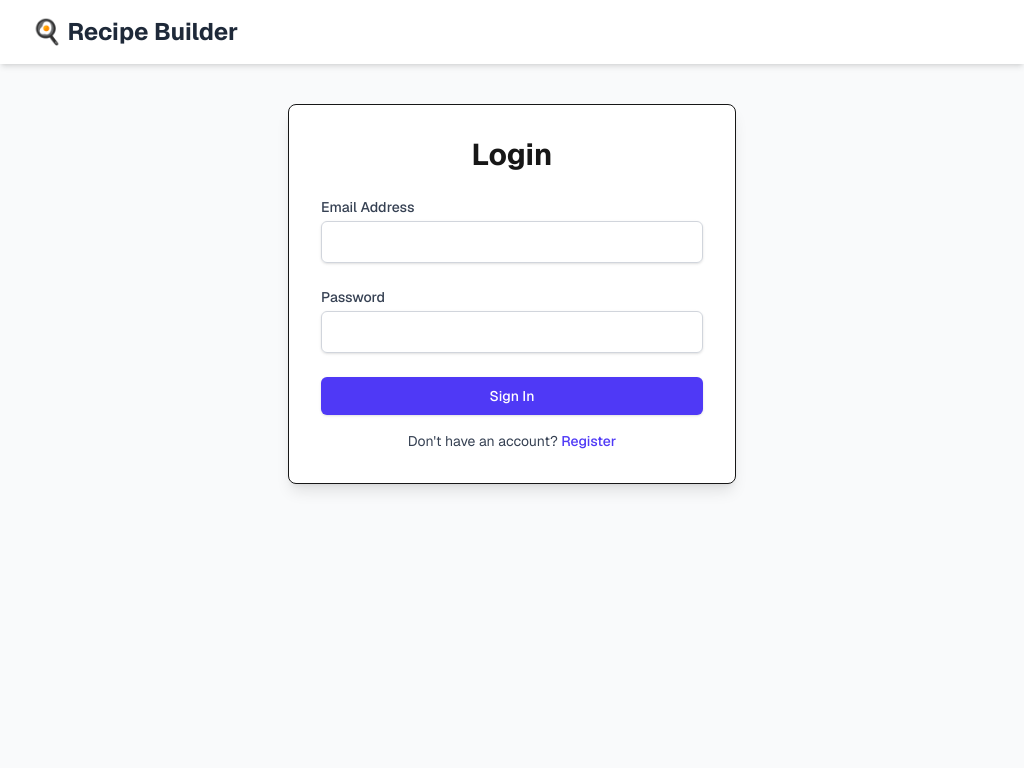
CookingFormulationApp - Authentication › should show an error message from the server for invalid data
Note: Switch to register
Click the button "Register" at x=589, y=441, box [561, 431, 616, 451]
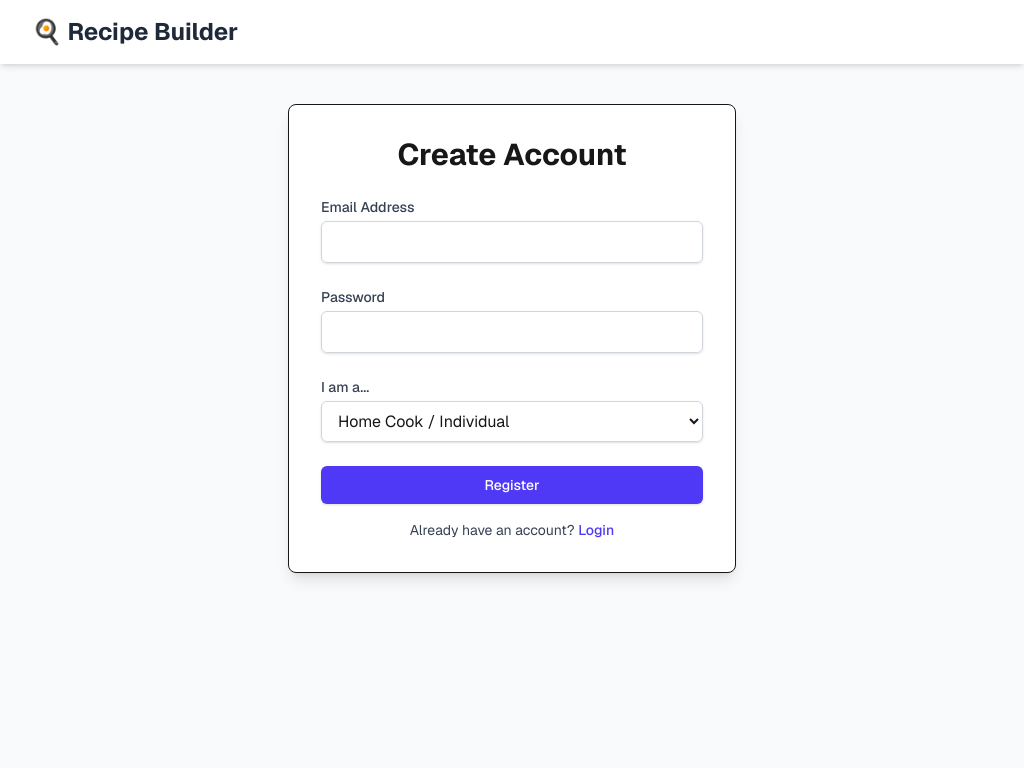
Note: Fill form with invalid data
Type "test@example.com" into the field labelled "Email Address" at x=512, y=242, box [321, 221, 703, 263]
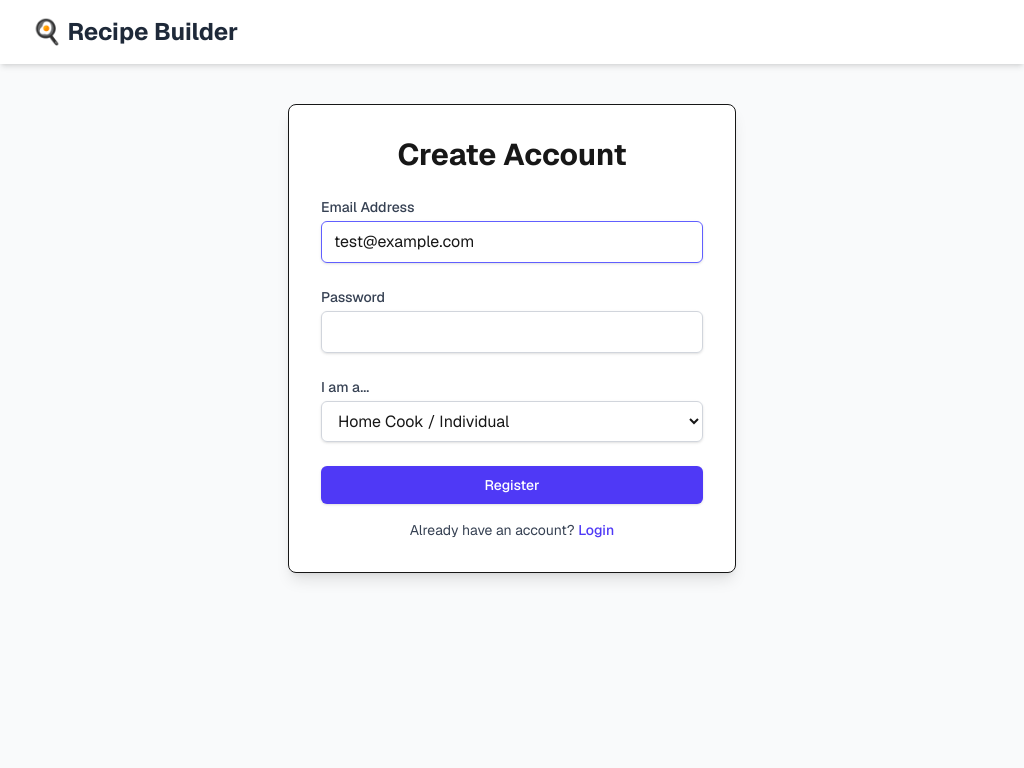
Type "123" into the password field labelled "Password" at x=512, y=332, box [321, 311, 703, 353]
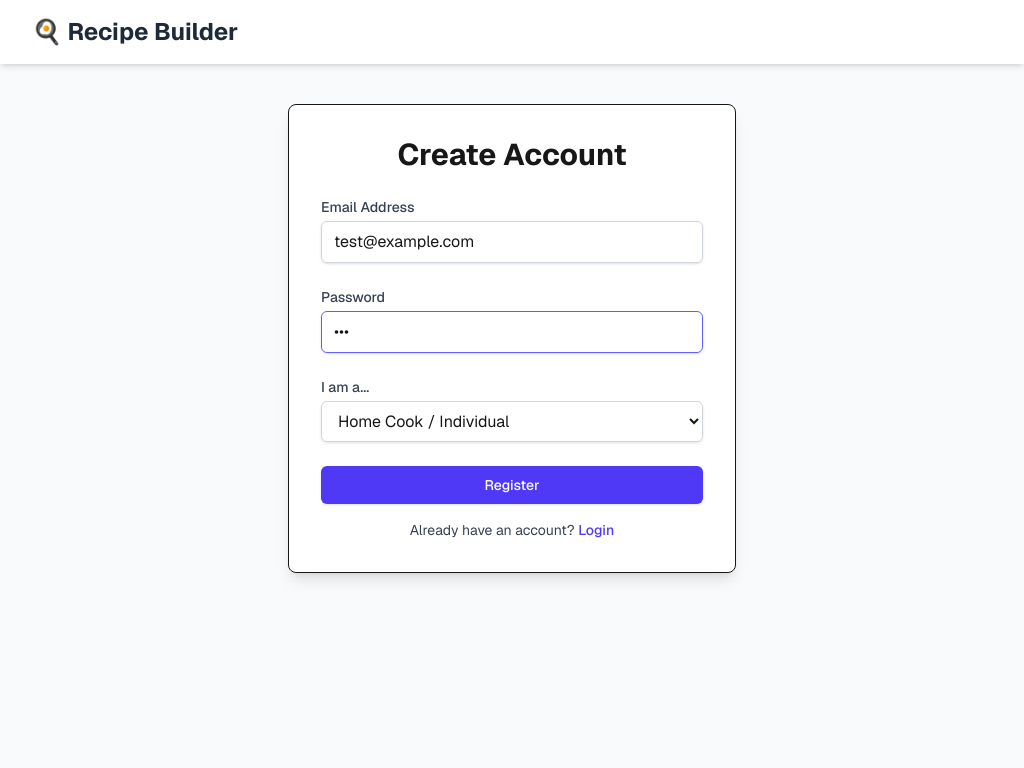
Click the button "Register" at x=512, y=485, box [321, 466, 703, 504]
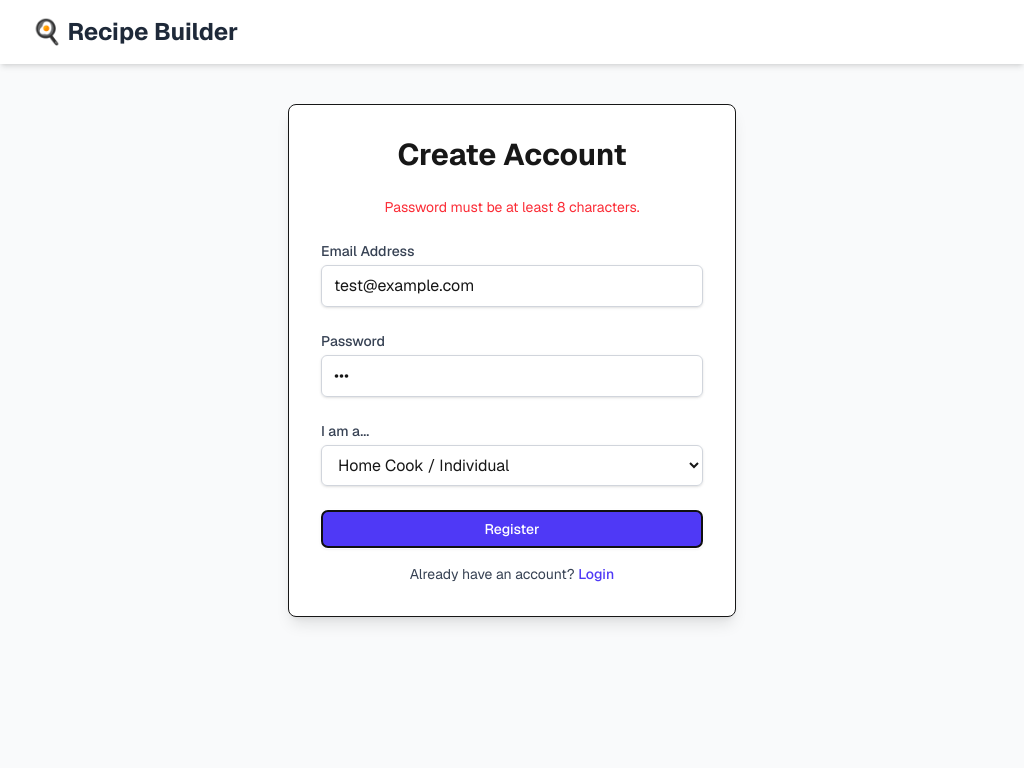
Check: the text "Password must be at least 8 characters." is shown, box [384, 198, 640, 216]
